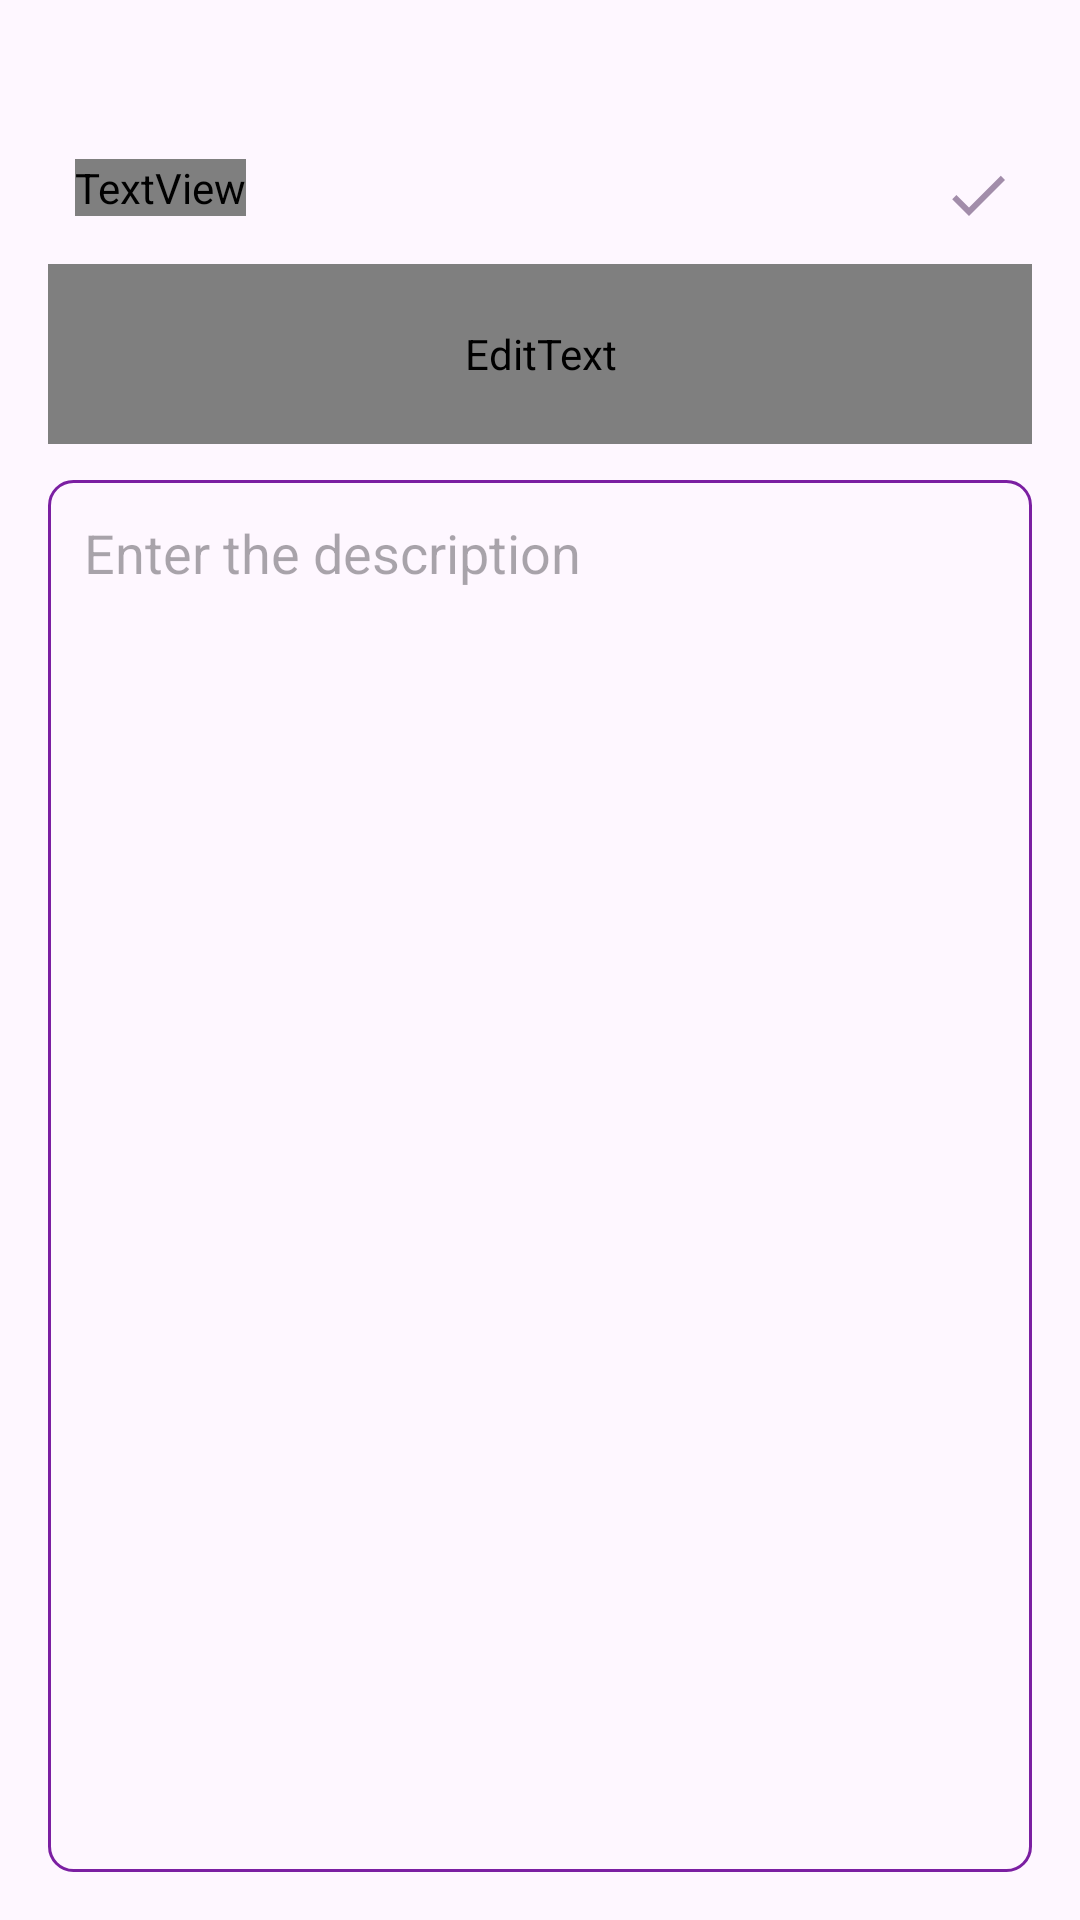

Locate icon controls on the screen. Image size 1080px x 1920px, boxes as (x1, y1, x2, y2).
done: (952, 176, 1005, 216)
